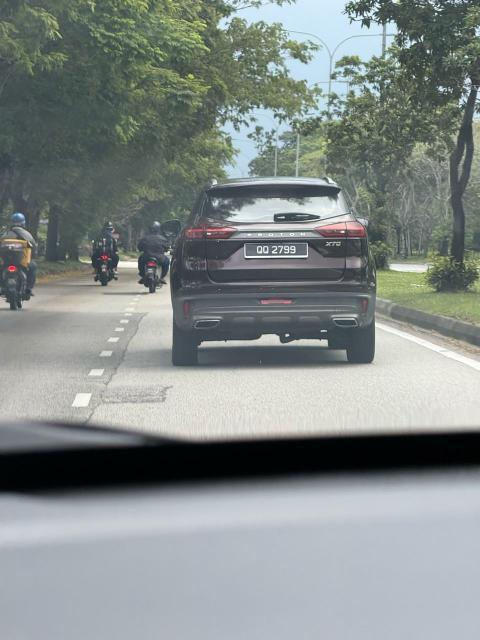License_Plate: (244, 242, 310, 260)
car: (165, 176, 378, 367)
